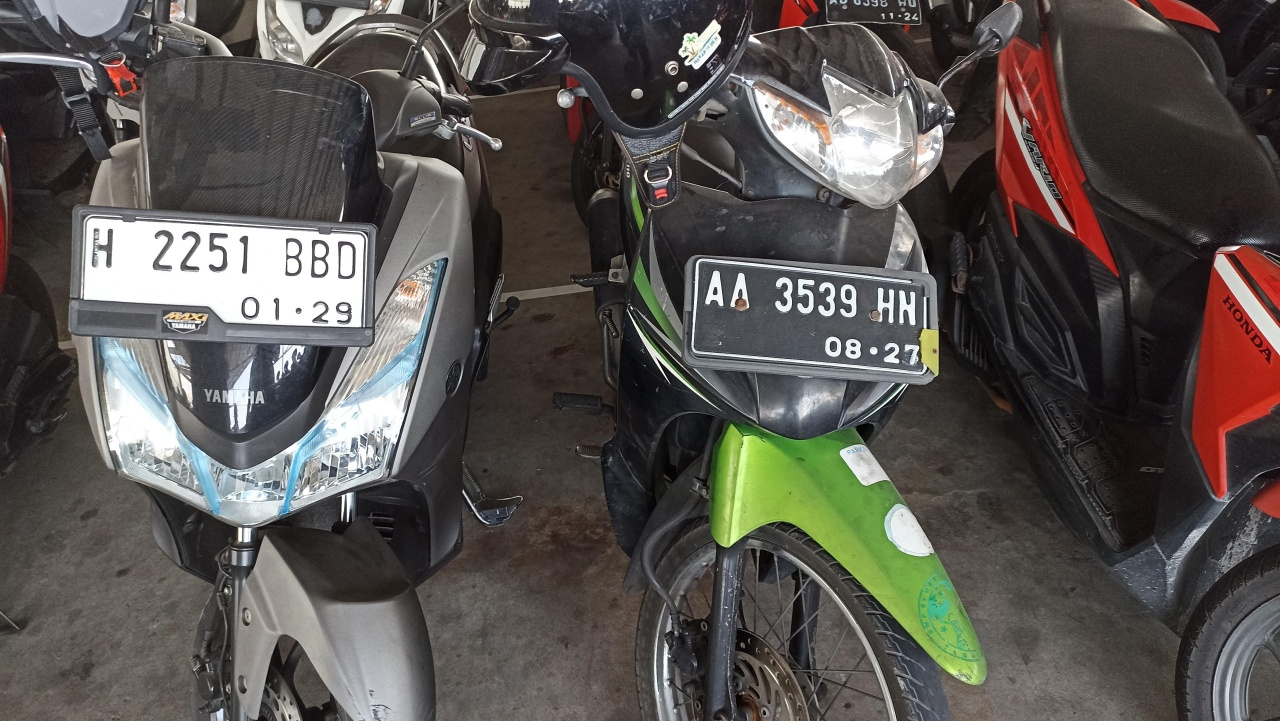plate: (74, 210, 374, 340), (690, 255, 929, 376)
